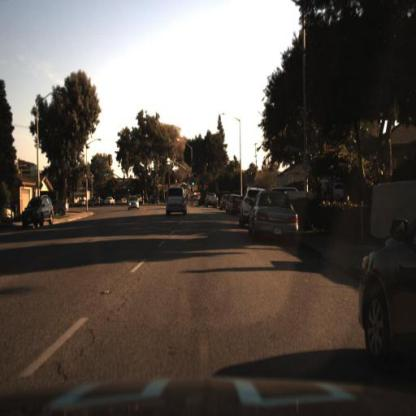car: (356, 203, 415, 378), (246, 188, 302, 240), (21, 183, 64, 234), (20, 189, 56, 231), (163, 185, 187, 216), (223, 190, 243, 219), (52, 194, 71, 219), (203, 191, 219, 212), (102, 194, 116, 207)
trafficLight-Green: (191, 179, 196, 191)
